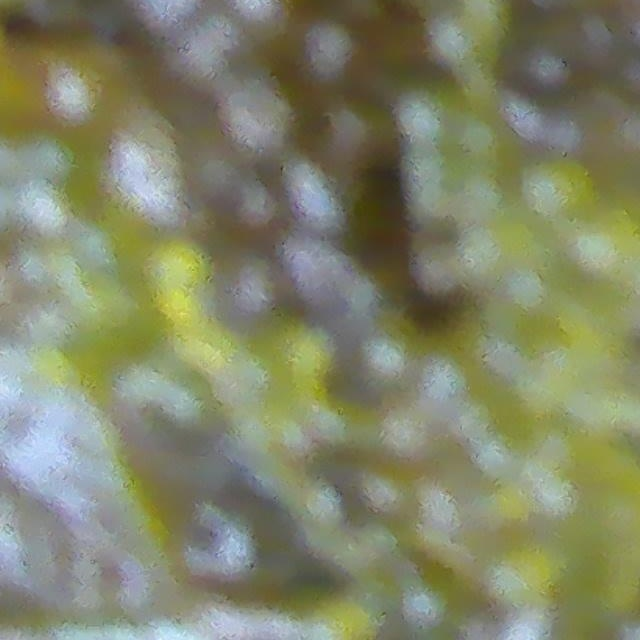SeaGrape: (520, 153, 600, 228), (306, 14, 348, 93)
